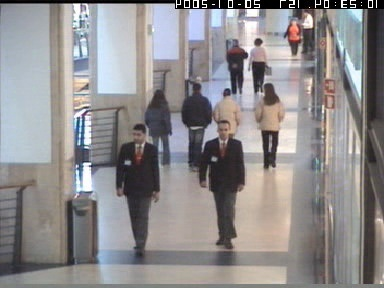person: (115, 124, 163, 253), (198, 119, 245, 248), (182, 83, 213, 169), (254, 85, 284, 167), (141, 91, 171, 167), (209, 89, 241, 139), (248, 39, 270, 94), (226, 39, 248, 94), (283, 18, 303, 54), (297, 9, 313, 54)
